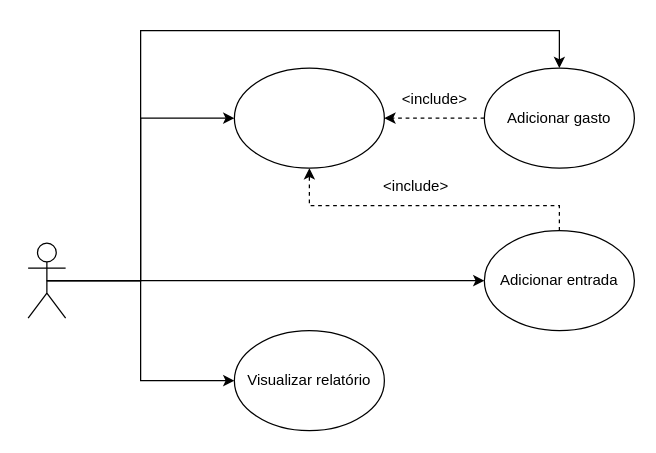
Some shapes in this 656 by 453 pixel diagram are drawn without their labels. Here are the shapes that lost their labels. From the top down, the centre of each, then its label:
pixel 308 117: Gerenciar despesas pessoais
pixel 46 280: Usuário
